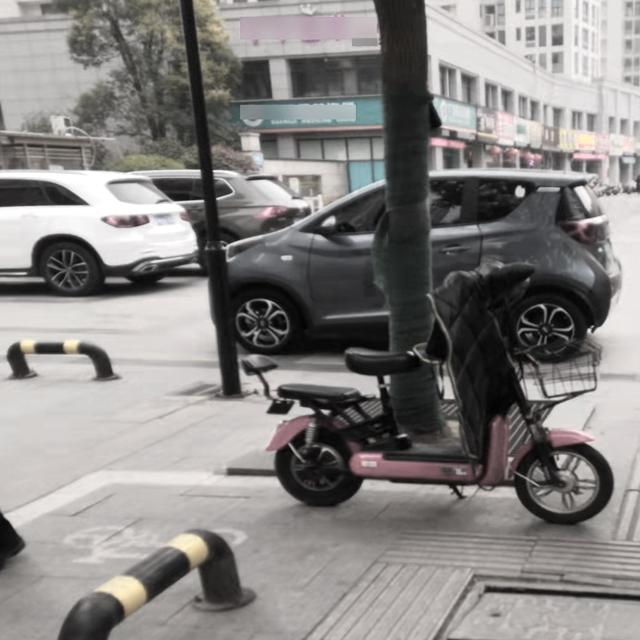uncovered: (353, 578, 640, 640)
